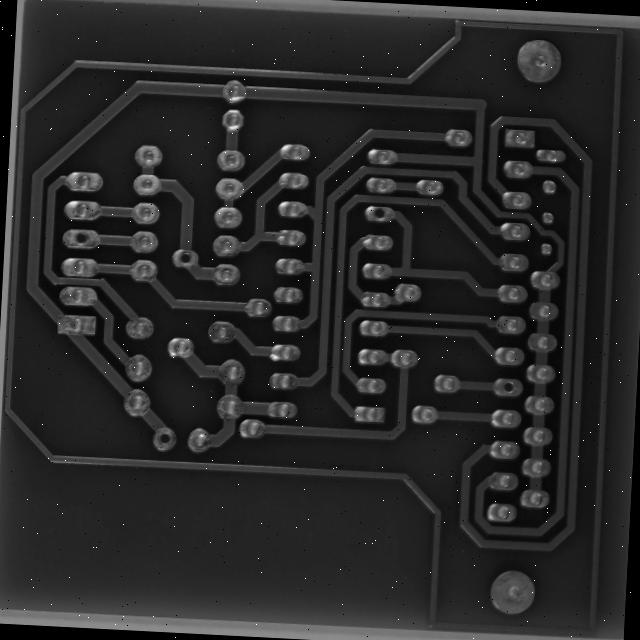missing_hole: (542, 411, 570, 441), (164, 468, 191, 498), (400, 223, 428, 250), (72, 250, 101, 276), (187, 273, 212, 297)
